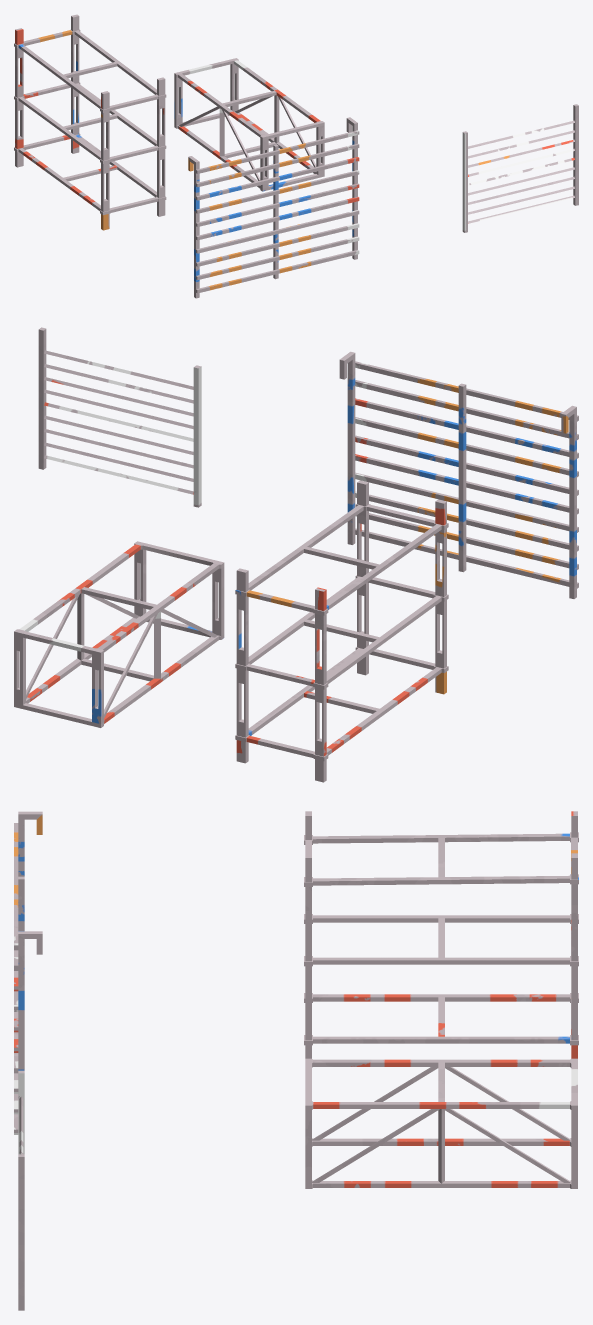
The model's file is Pallets.fbx.
3 renders of one model, top to bottom at view 1: azimuth 30°, elevation 25°; view 2: azimuth 150°, elevation 25°; view 3: azimuth 270°, elevation 25°, orthographic. The views are drawn at different scales.
Visible parts, largest first — view 1: Iron_fence_1_LOD0, Pallet_Racking_LOD0, Pallet_construction_LOD0, Iron_fence_2_LOD0; view 2: Iron_fence_1_LOD0, Pallet_Racking_LOD0, Pallet_construction_LOD0, Iron_fence_2_LOD0; view 3: Pallet_Racking_LOD0, Pallet_construction_LOD0, Iron_fence_1_LOD0, Iron_fence_2_LOD0.
Part boxes in pixels (left/top/right/bottom): Iron_fence_1_LOD0: left=188, top=117, right=359, bottom=298; Pallet_Racking_LOD0: left=14, top=14, right=166, bottom=230; Pallet_construction_LOD0: left=174, top=58, right=324, bottom=191; Iron_fence_2_LOD0: left=462, top=104, right=578, bottom=232; Iron_fence_1_LOD0: left=339, top=351, right=578, bottom=598; Pallet_Racking_LOD0: left=235, top=480, right=448, bottom=782; Pallet_construction_LOD0: left=14, top=541, right=224, bottom=727; Iron_fence_2_LOD0: left=38, top=327, right=201, bottom=507; Pallet_Racking_LOD0: left=304, top=811, right=578, bottom=1058; Pallet_construction_LOD0: left=305, top=1058, right=577, bottom=1188; Iron_fence_1_LOD0: left=14, top=811, right=42, bottom=1134; Iron_fence_2_LOD0: left=18, top=1070, right=24, bottom=1310.
Size of what is drawn, in the model's own units: 2420 by 823 by 1998.
